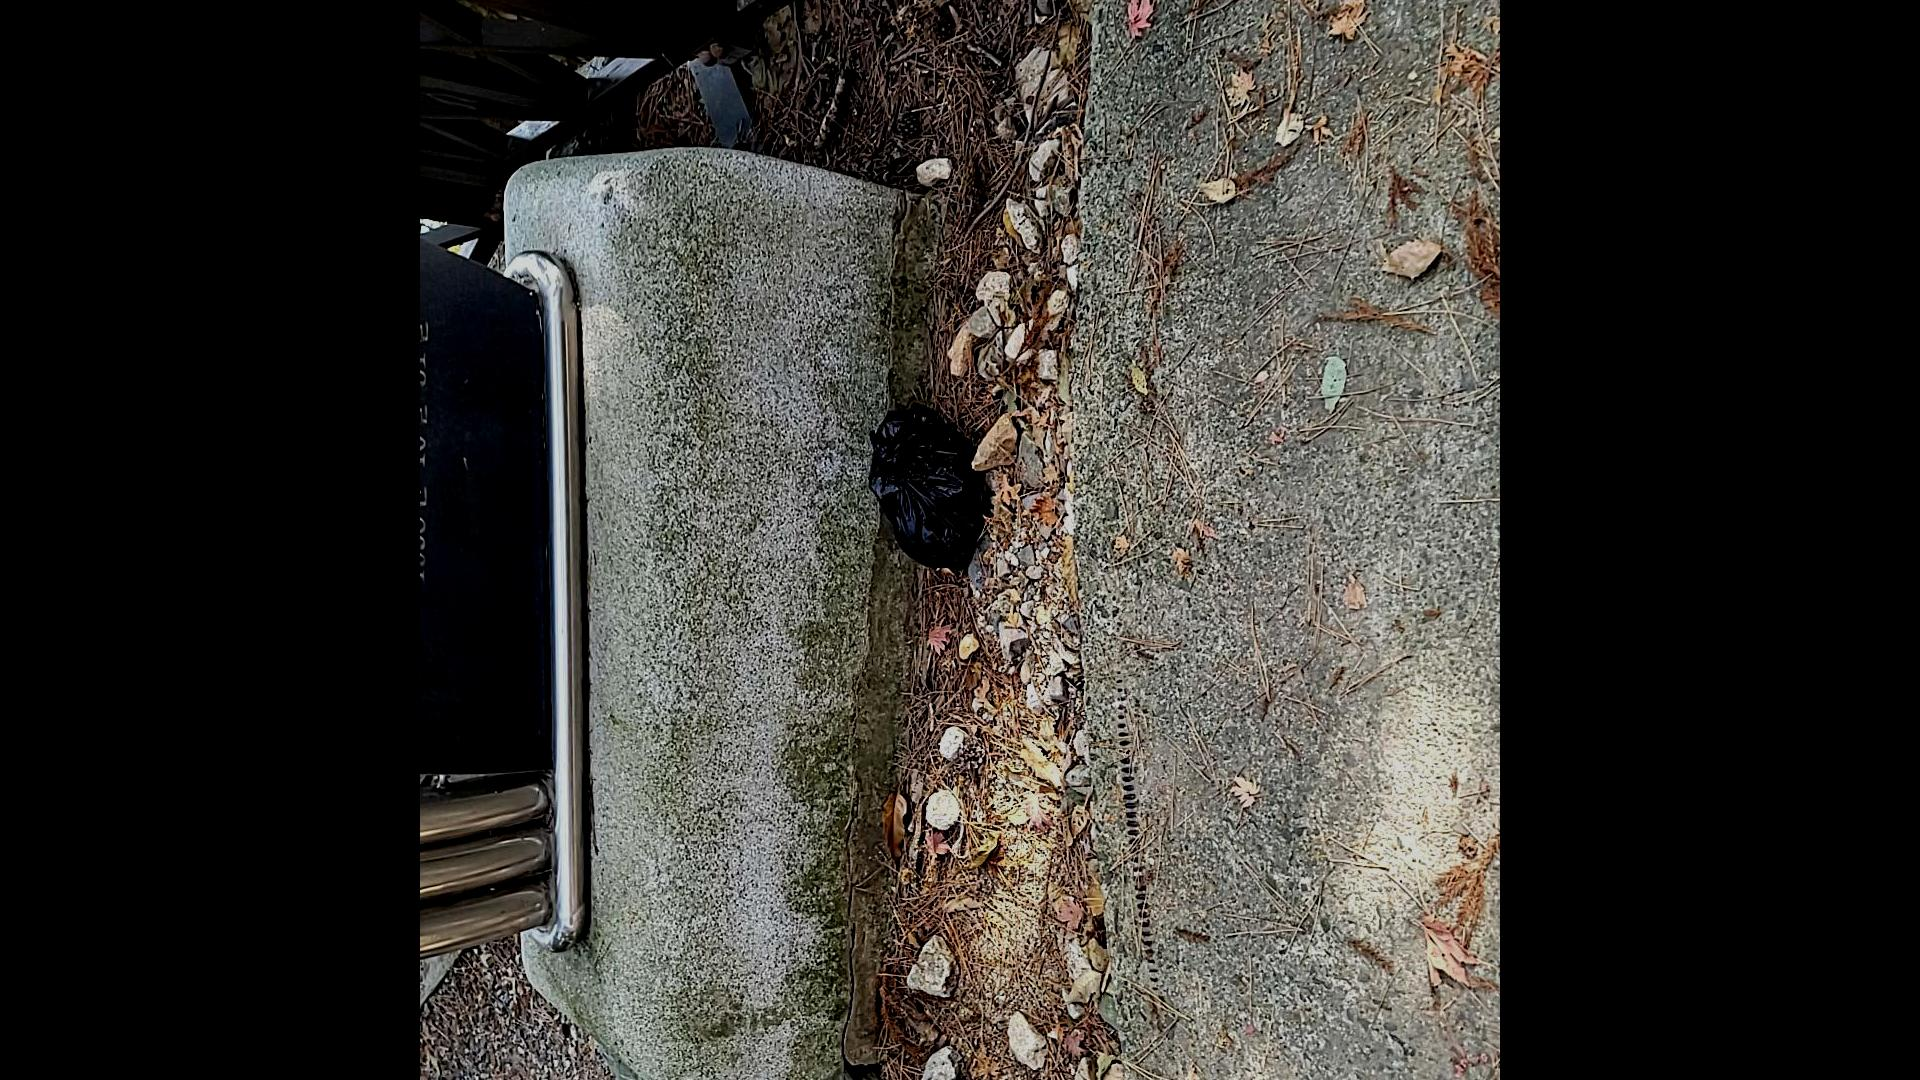black_bag: (866, 397, 1000, 580)
